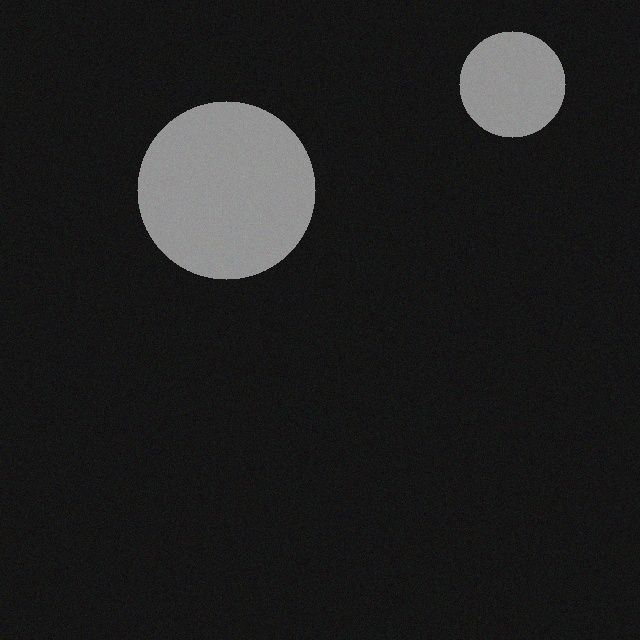circle: (134, 115, 312, 293), (456, 45, 562, 151)
